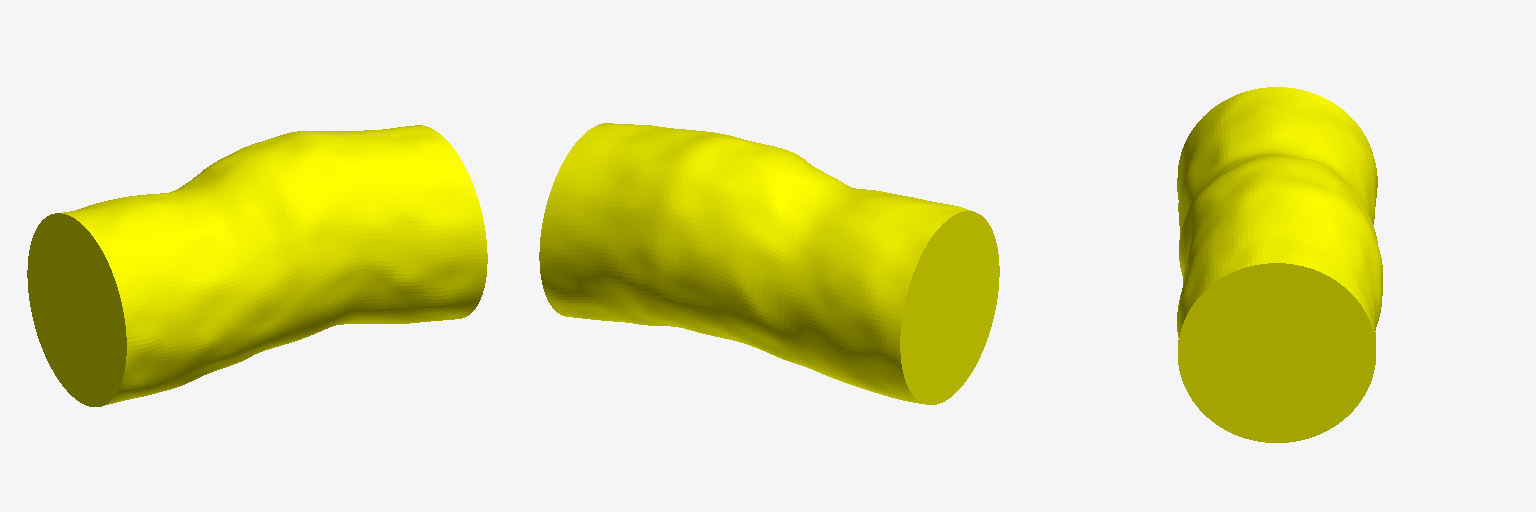
File: reel.obj
The picture shows the model from 3 angles: view 1: azimuth 30°, elevation 25°; view 2: azimuth 150°, elevation 25°; view 3: azimuth 270°, elevation 25°; orthographic projection.
Parts seen in each view (by area): view 1: Cylinder.001; view 2: Cylinder.001; view 3: Cylinder.001.
Boxes of the visible parts, x1,y1,x2,y2 form: Cylinder.001: [27, 125, 487, 406]; Cylinder.001: [539, 123, 999, 404]; Cylinder.001: [1177, 87, 1382, 442].
Bounding box in the file's own units: 4.17 × 2.22 × 2.06.